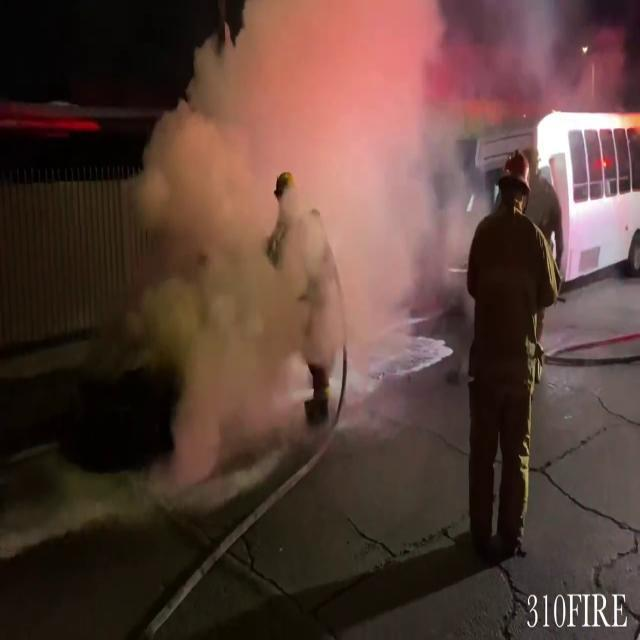Smoke: (148, 0, 474, 456)
